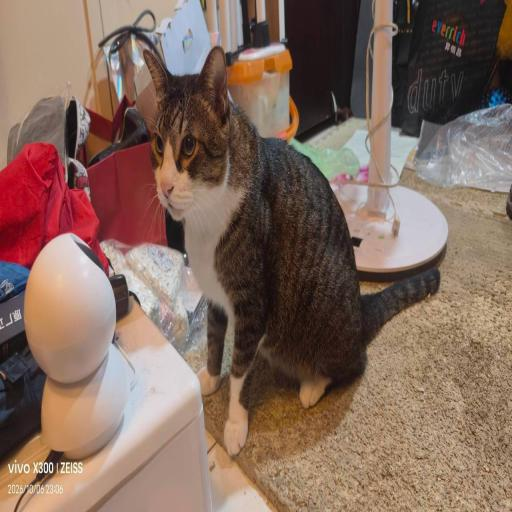cat: (152, 51, 380, 433)
